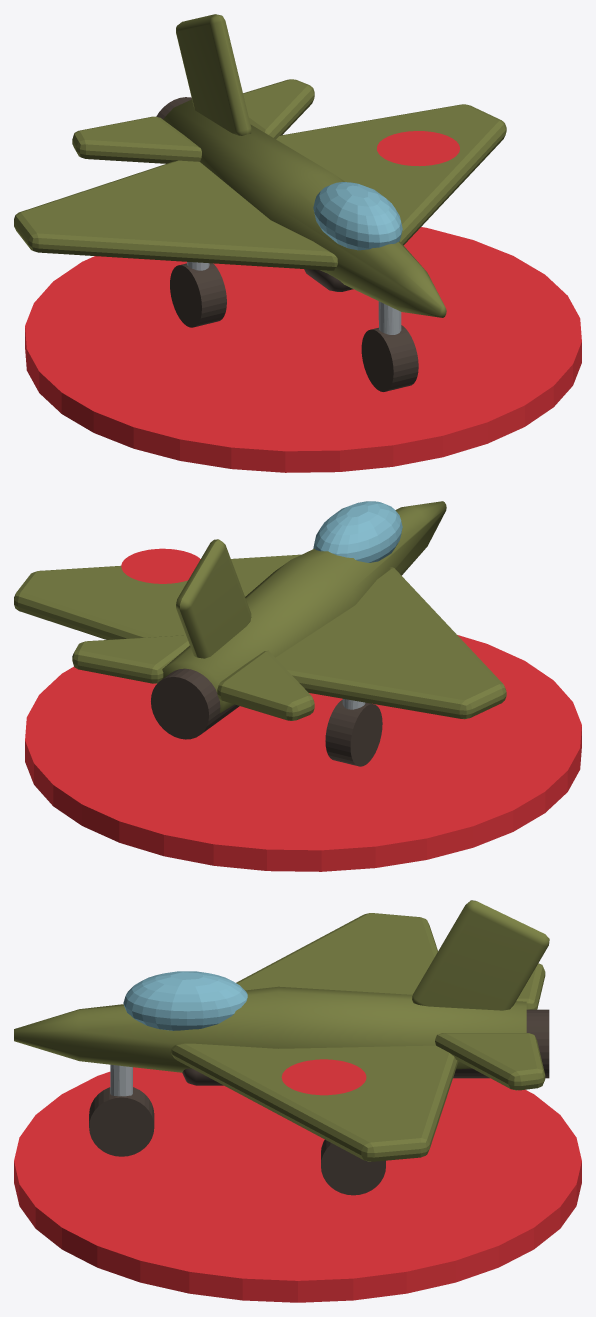
File: japan_air_force_lod0.glb
3 views of the same model, one above another, from view 1: azimuth 30°, elevation 25°; view 2: azimuth 150°, elevation 25°; view 3: azimuth 270°, elevation 25° (orthographic).
Parts seen in each view (by area): view 1: base_pedestal, body_hull; view 2: base_pedestal, body_hull; view 3: base_pedestal, body_hull.
Part boxes in pixels (<box>): base_pedestal: <box>25,227,581,472</box>; body_hull: <box>14,14,506,391</box>; base_pedestal: <box>25,635,581,871</box>; body_hull: <box>14,501,506,766</box>; base_pedestal: <box>14,1067,581,1302</box>; body_hull: <box>14,900,549,1195</box>.
Bounding box in the file's own units: 0.78 × 0.4272 × 0.78.
